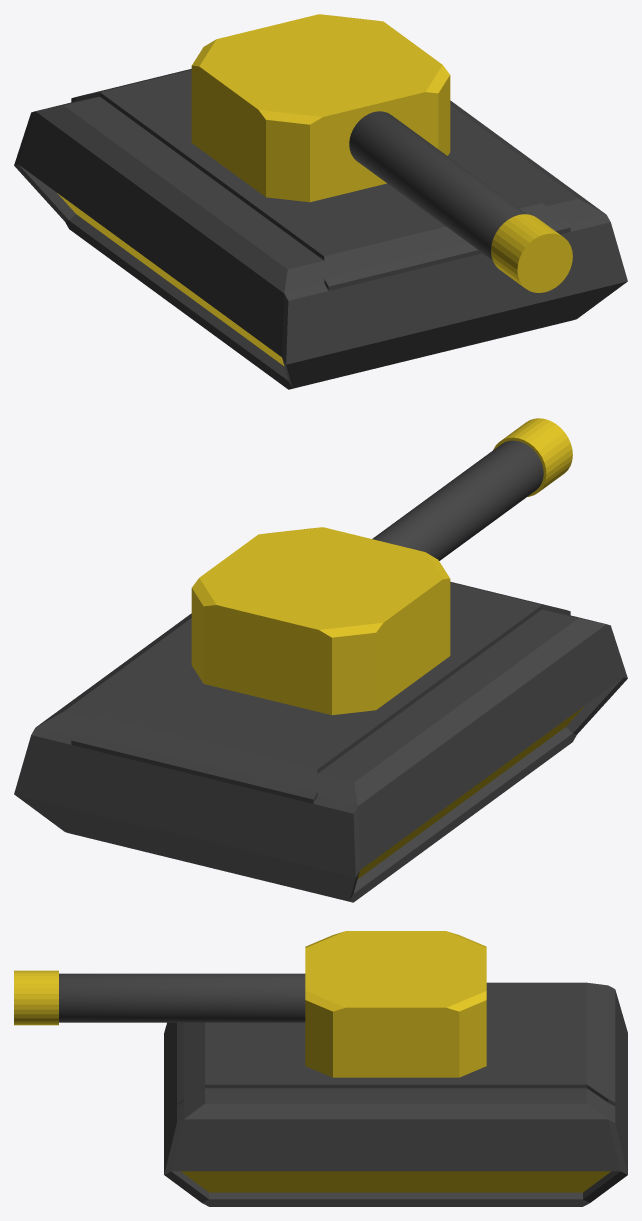
Rendered from base_tank_yellow.fbx.
The picture shows the model from 3 angles, top to bottom: view 1: azimuth 30°, elevation 25°; view 2: azimuth 150°, elevation 25°; view 3: azimuth 270°, elevation 25°; orthographic projection. The views are drawn at different scales.
Visible parts, largest first — view 1: Body, Weapon; view 2: Body, Weapon; view 3: Body, Weapon.
Part boxes in pixels (x1,y1,x2,y2): Body: (14,69,627,389); Weapon: (191,14,572,292); Body: (14,581,627,902); Weapon: (191,418,572,715); Body: (164,982,627,1206); Weapon: (14,931,486,1077).
Size of the model in its own units: 108 by 62.94 by 196.
Materials: 2 (2 with a texture image).
